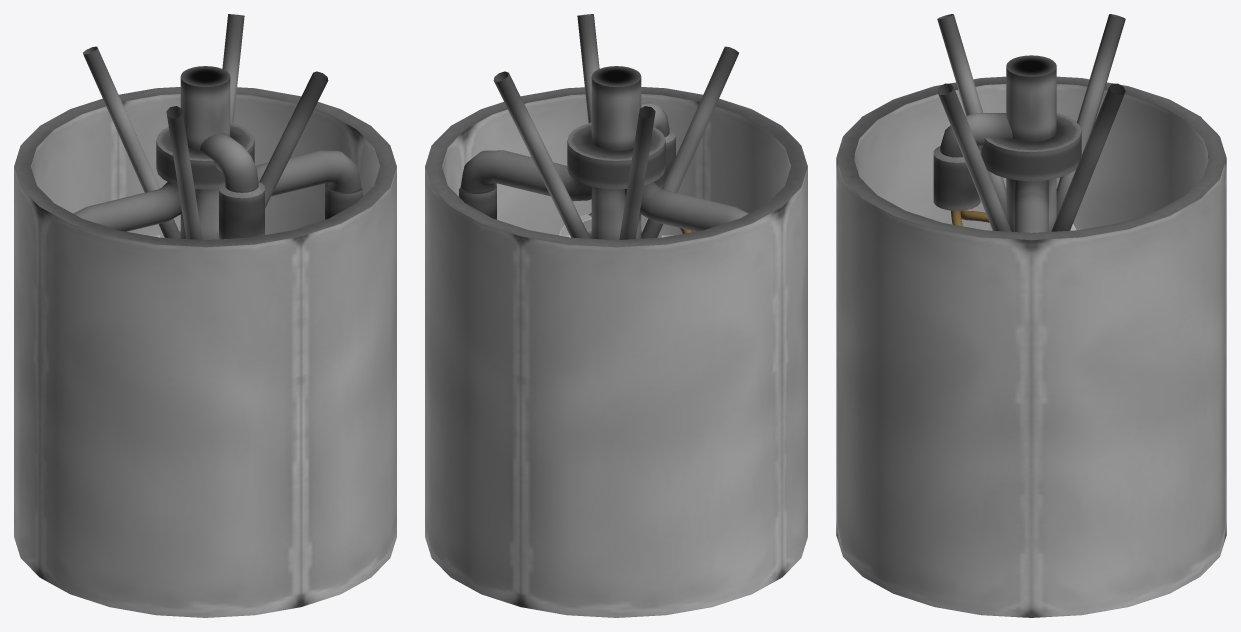
The model's file is bluedog_vanguardEngine.dae.
3 renders of one model, left to right at view 1: azimuth 30°, elevation 25°; view 2: azimuth 150°, elevation 25°; view 3: azimuth 270°, elevation 25°, orthographic.
Parts seen in each view (by area): view 1: fairing, EngineBase2; view 2: fairing, EngineBase2; view 3: fairing, EngineBase2.
Part boxes in pixels (x1,y1,x2,y2): fairing: (14,87,396,617); EngineBase2: (73,14,362,240); fairing: (425,87,807,617); EngineBase2: (459,14,748,240); fairing: (836,76,1226,617); EngineBase2: (933,14,1125,232).
Bounding box in the file's own units: 0.9376 × 1.29 × 0.9376.
